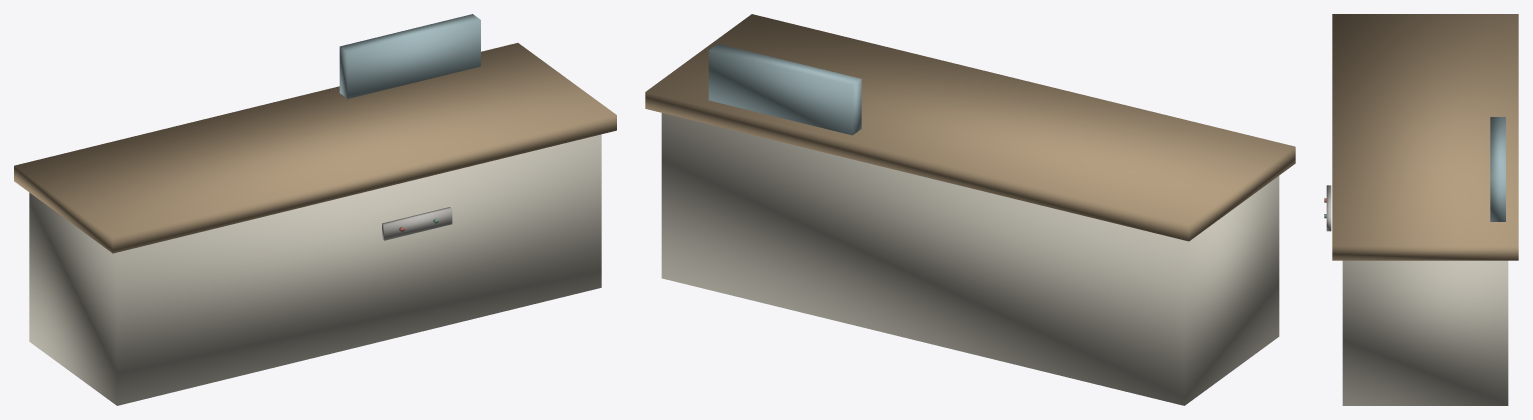
The model's file is pharmacy_pickup_counter__squat.glb.
3 views of the same model, side by side, from view 1: azimuth 30°, elevation 25°; view 2: azimuth 150°, elevation 25°; view 3: azimuth 270°, elevation 25° (orthographic). The views are drawn at different scales.
Visible parts, largest first — view 1: world; view 2: world; view 3: world.
Part boxes in pixels (x1,y1,x2,y2): world: [14, 14, 616, 405]; world: [645, 14, 1295, 405]; world: [1324, 14, 1518, 405].
Size of the model in its own units: 2.29 by 0.9576 by 0.8111.
